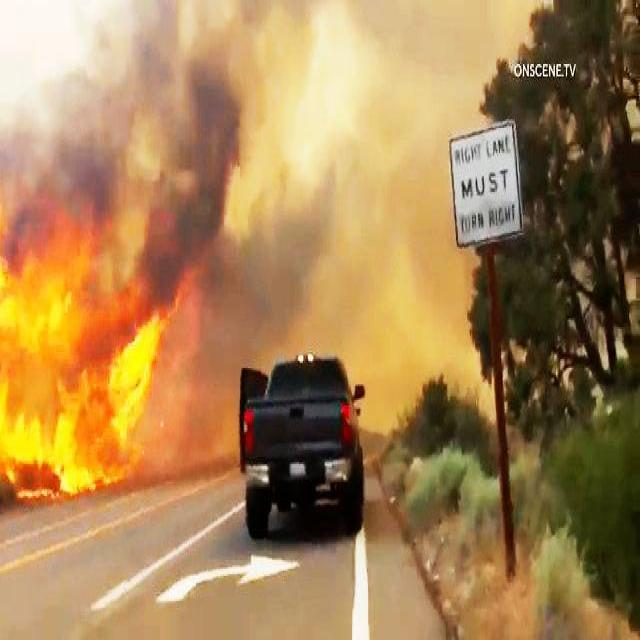Fire: (0, 194, 182, 506)
Smoke: (198, 14, 406, 302)
